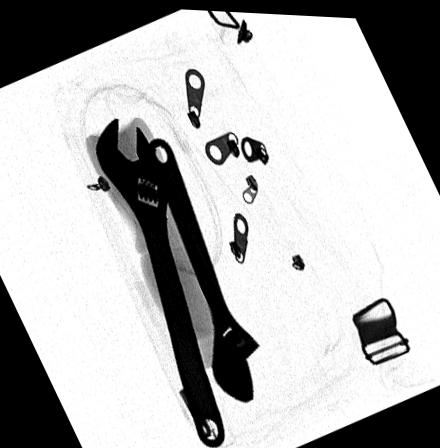Wrench: (92, 112, 226, 444), (148, 133, 263, 397)
